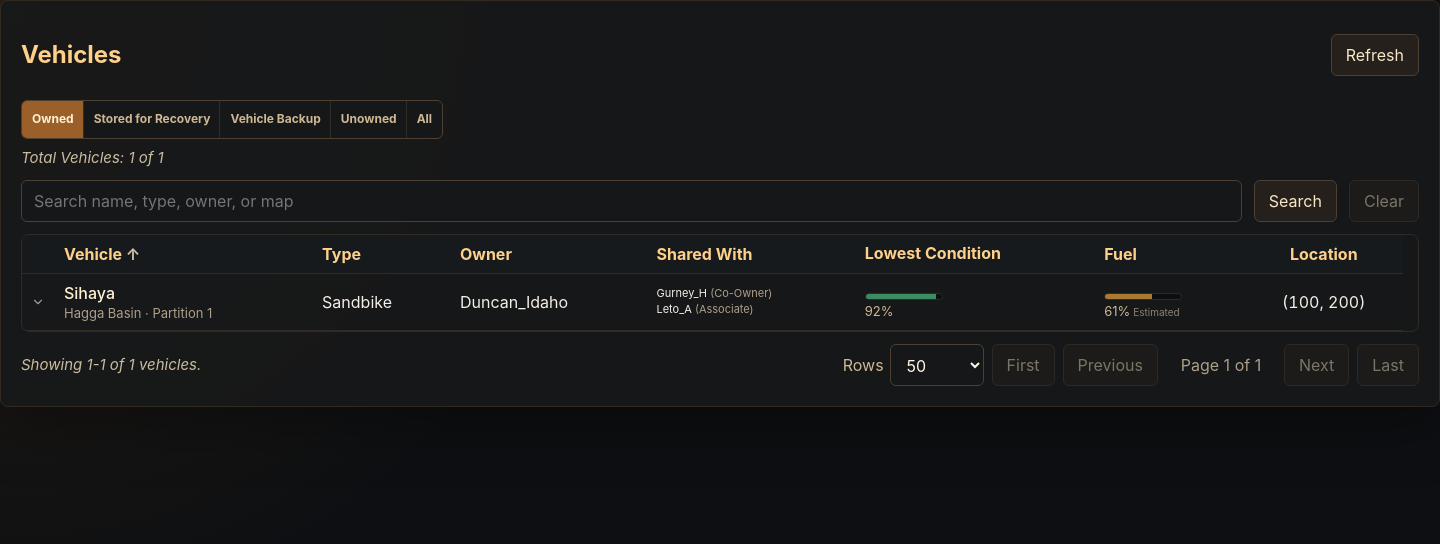
Test: VehiclesPanel › View Contents › hides the button when the schema cannot serve holds
Click the button named "Show components for Sihaya": (38, 302) [26,290,50,314]
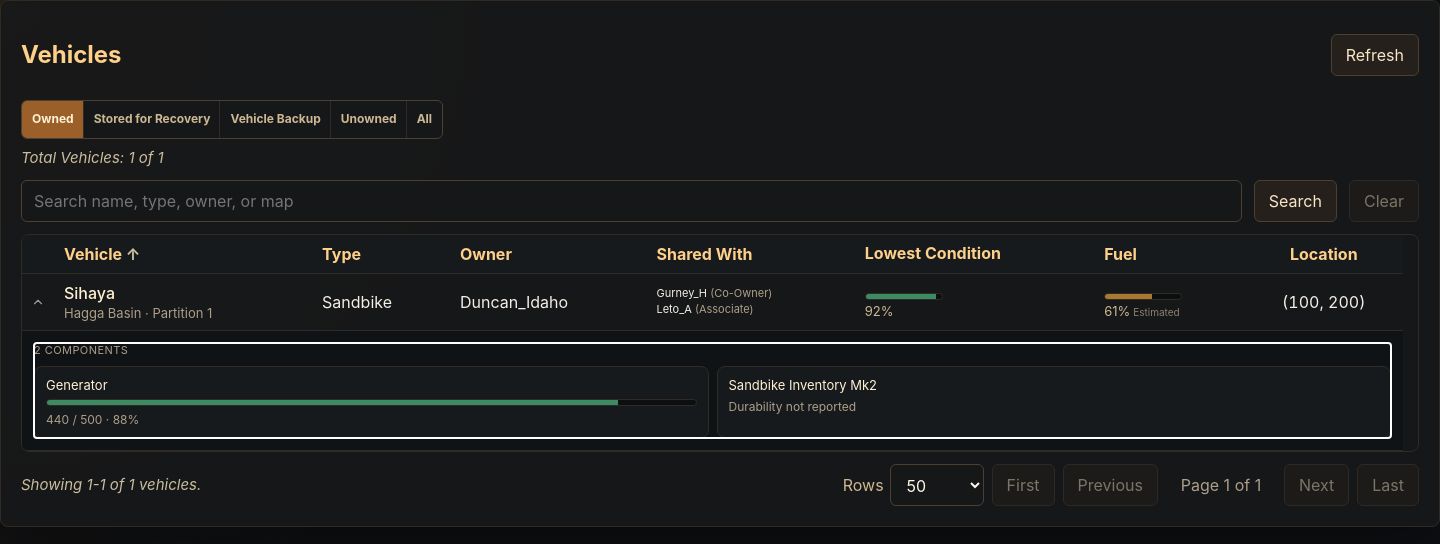
expect the text "2 components" is shown: met, box [34,343,128,357]
